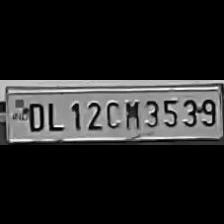1: (66, 98, 82, 130)
2: (82, 97, 104, 130)
3: (180, 95, 198, 127), (141, 96, 158, 128)
5: (160, 95, 178, 127)
9: (198, 94, 216, 128)
C: (103, 97, 121, 129)
D: (22, 99, 46, 131)
L: (45, 97, 65, 131)
M: (122, 96, 140, 130)
